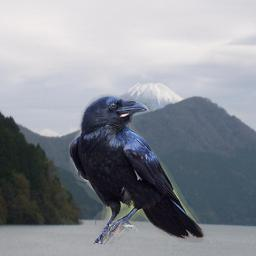Crow: (69, 94, 208, 244)
